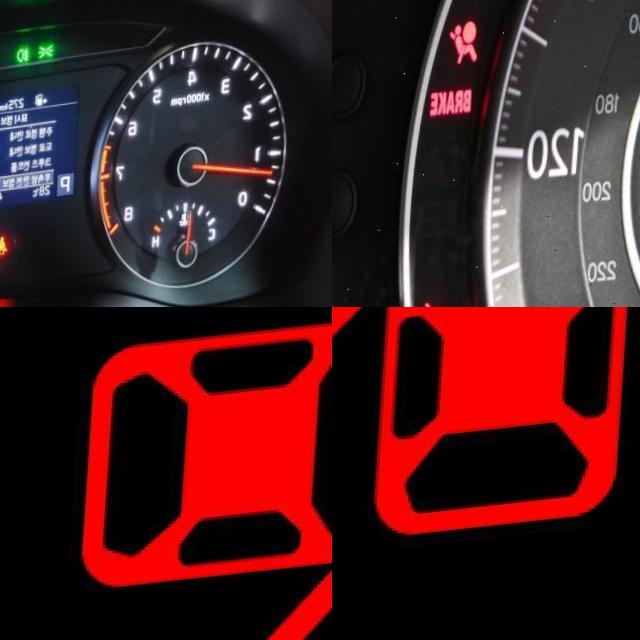FrontFogLight: (21, 53, 34, 69)
SideLamp: (42, 50, 59, 66)
